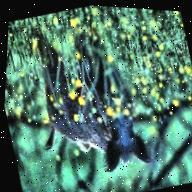boar: (13, 15, 160, 192)
